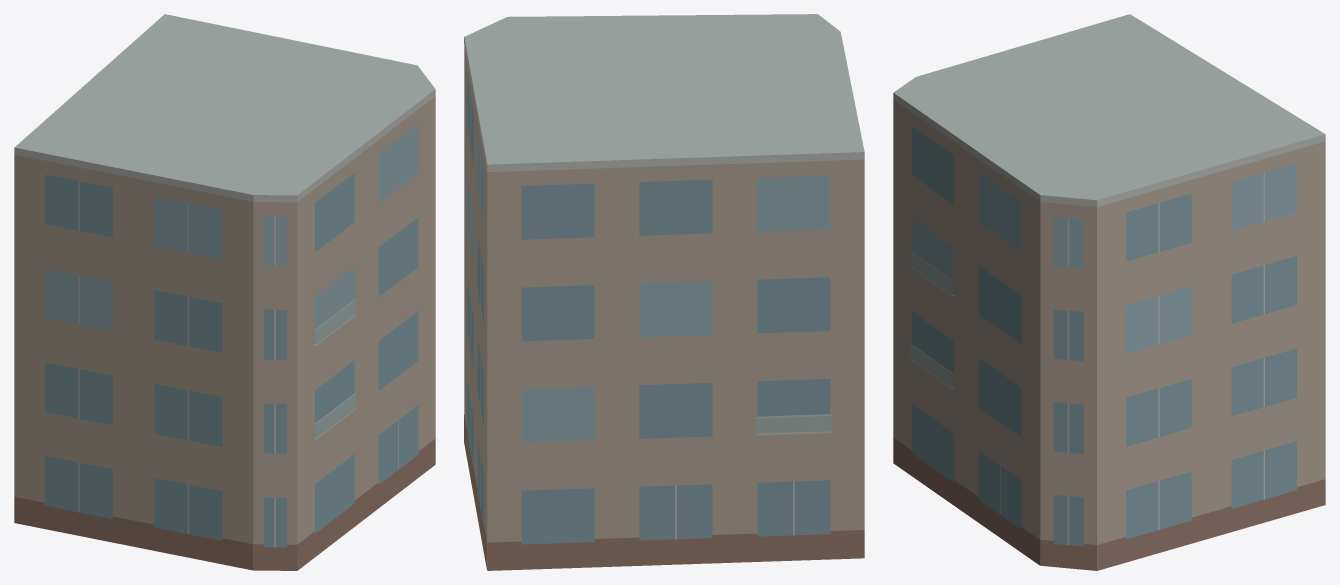
Rendered from survey-upis-33017448.glb.
3 views of the same model, side by side, from view 1: azimuth 30°, elevation 25°; view 2: azimuth 150°, elevation 25°; view 3: azimuth 270°, elevation 25° (orthographic). The views are drawn at different scales.
Parts seen in each view (by area): view 1: survey-upis-33017448.tmp; view 2: survey-upis-33017448.tmp; view 3: survey-upis-33017448.tmp.
Boxes of the visible parts, left/top/right/bottom form: survey-upis-33017448.tmp: left=14, top=14, right=435, bottom=570; survey-upis-33017448.tmp: left=464, top=14, right=864, bottom=570; survey-upis-33017448.tmp: left=893, top=14, right=1325, bottom=570.
Bounding box in the file's own units: 14.23 × 13.2 × 13.96.
